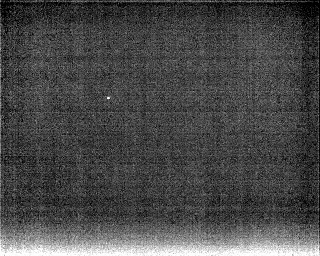BIRD: (105, 94, 113, 103)
